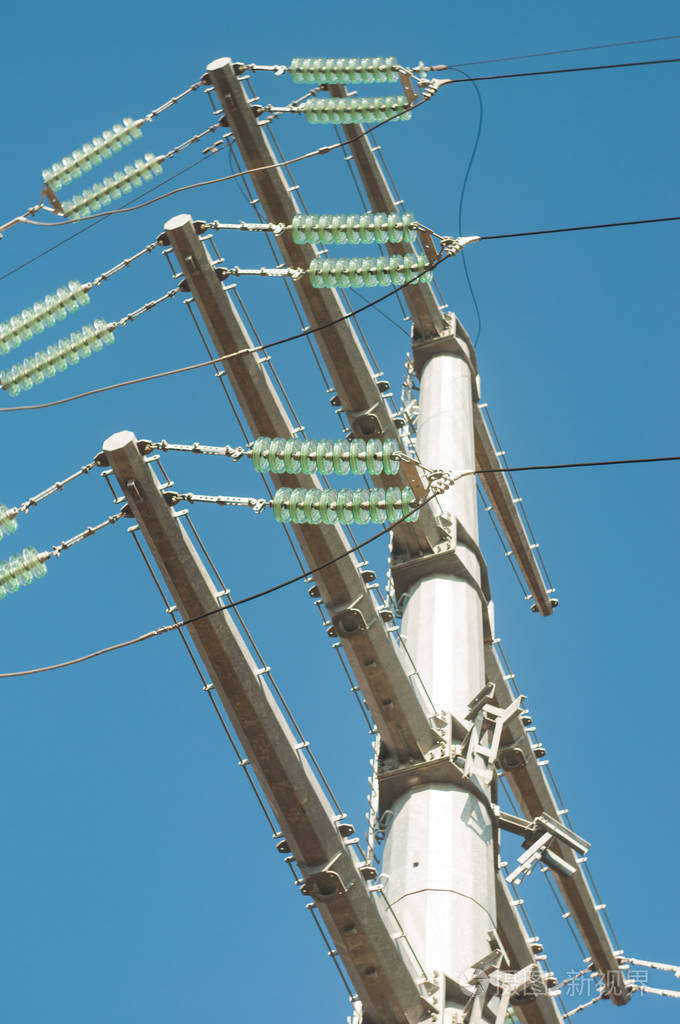insulator: (2, 321, 114, 404), (42, 116, 141, 189), (250, 430, 397, 478), (270, 481, 423, 526), (62, 151, 160, 221), (1, 274, 91, 347), (295, 255, 439, 291), (283, 207, 414, 246), (285, 53, 401, 84), (304, 93, 410, 125), (1, 538, 53, 595)
